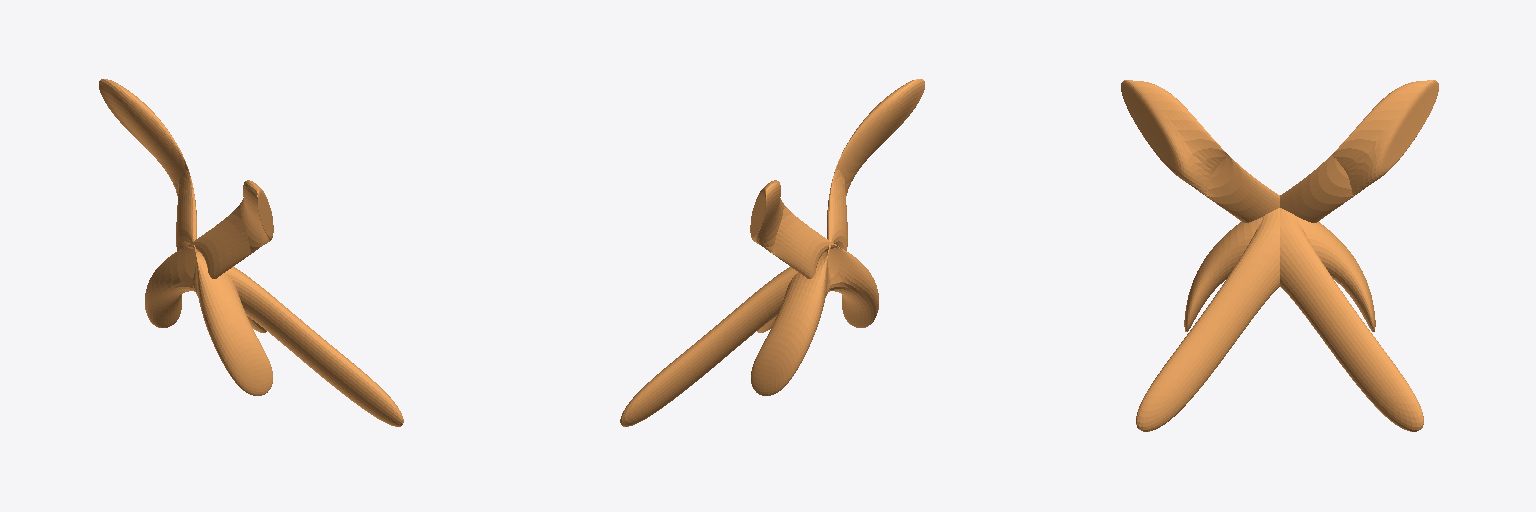
Rendered from Creaturestruc6.obj.
The picture shows the model from 3 angles: view 1: azimuth 30°, elevation 25°; view 2: azimuth 150°, elevation 25°; view 3: azimuth 270°, elevation 25°; orthographic projection.
Visible parts, largest first — view 1: Cube_Cube.007; view 2: Cube_Cube.007; view 3: Cube_Cube.007.
Boxes of the visible parts, x1,y1,x2,y2 form: Cube_Cube.007: [99, 79, 403, 426]; Cube_Cube.007: [620, 79, 924, 426]; Cube_Cube.007: [1121, 80, 1438, 431].
Bounding box in the file's own units: 7.55 × 12.94 × 13.34.